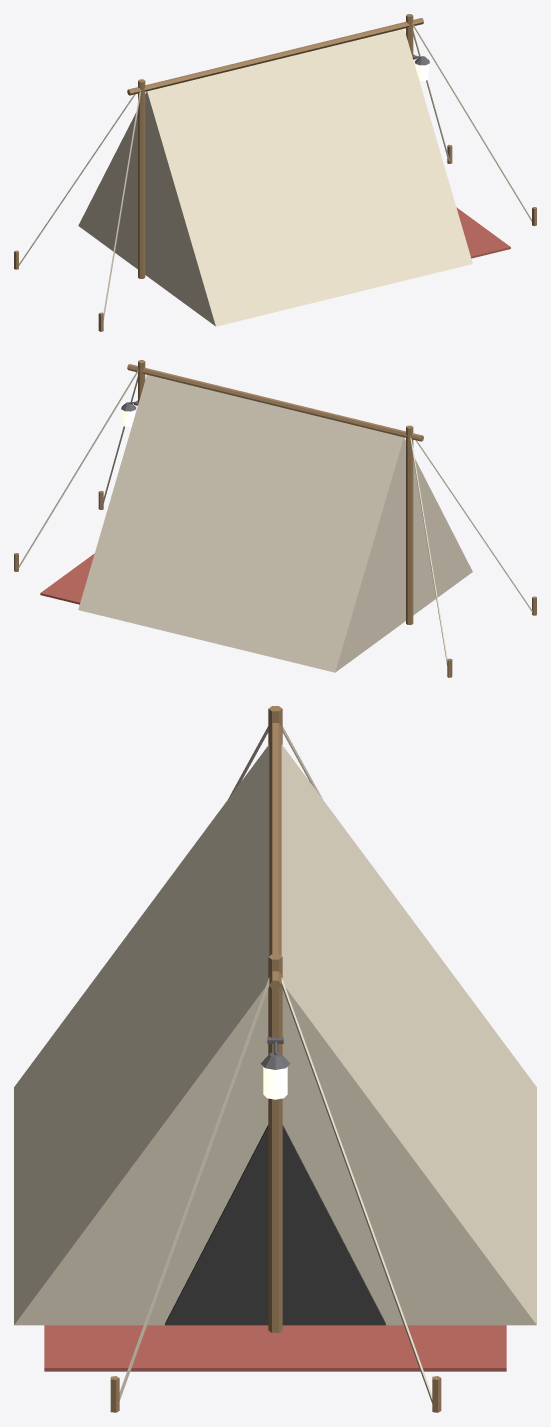
File: lobby_tent.glb
3 views of the same model, one above another, from view 1: azimuth 30°, elevation 25°; view 2: azimuth 150°, elevation 25°; view 3: azimuth 270°, elevation 25° (orthographic). The views are drawn at different scales.
Visible parts, largest first — view 1: LobbyTent; view 2: LobbyTent; view 3: LobbyTent.
Boxes of the visible parts, x1,y1,x2,y2 form: LobbyTent: (14,14,536,331); LobbyTent: (14,360,536,677); LobbyTent: (14,706,536,1412).
Bounding box in the file's own units: 4.77 × 2.07 × 2.6.
